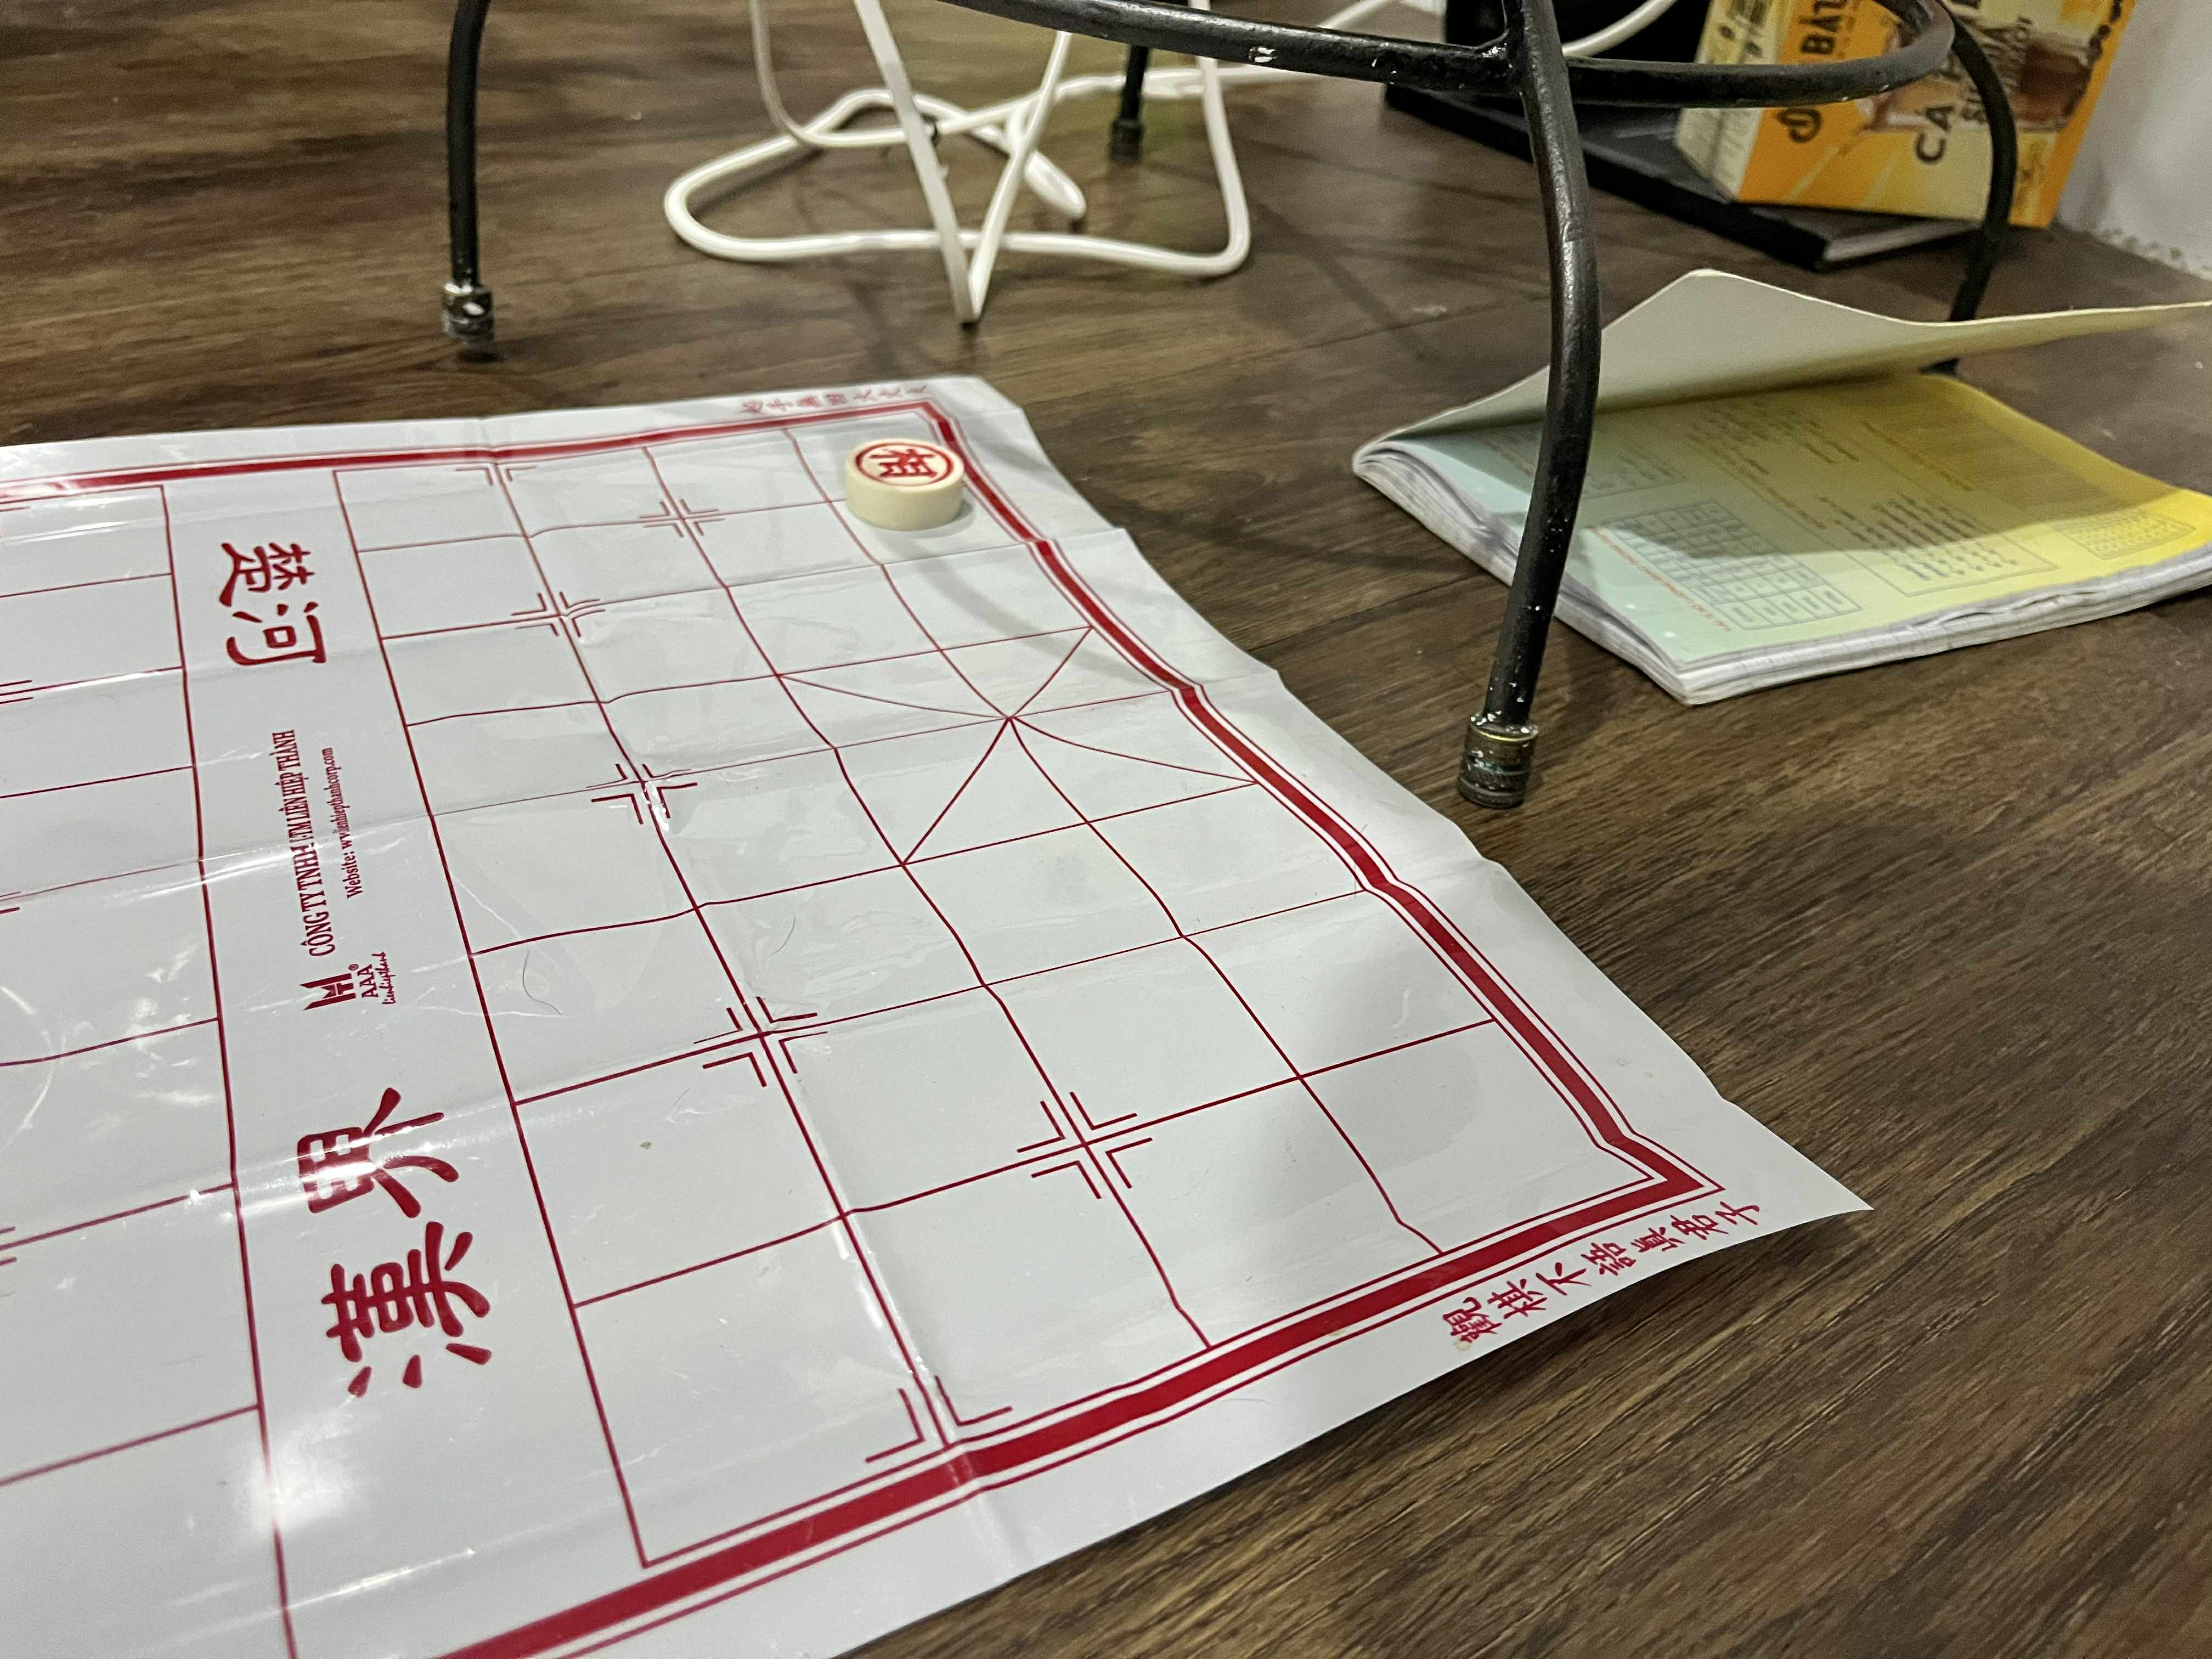red-elephant: (845, 434, 967, 495)
